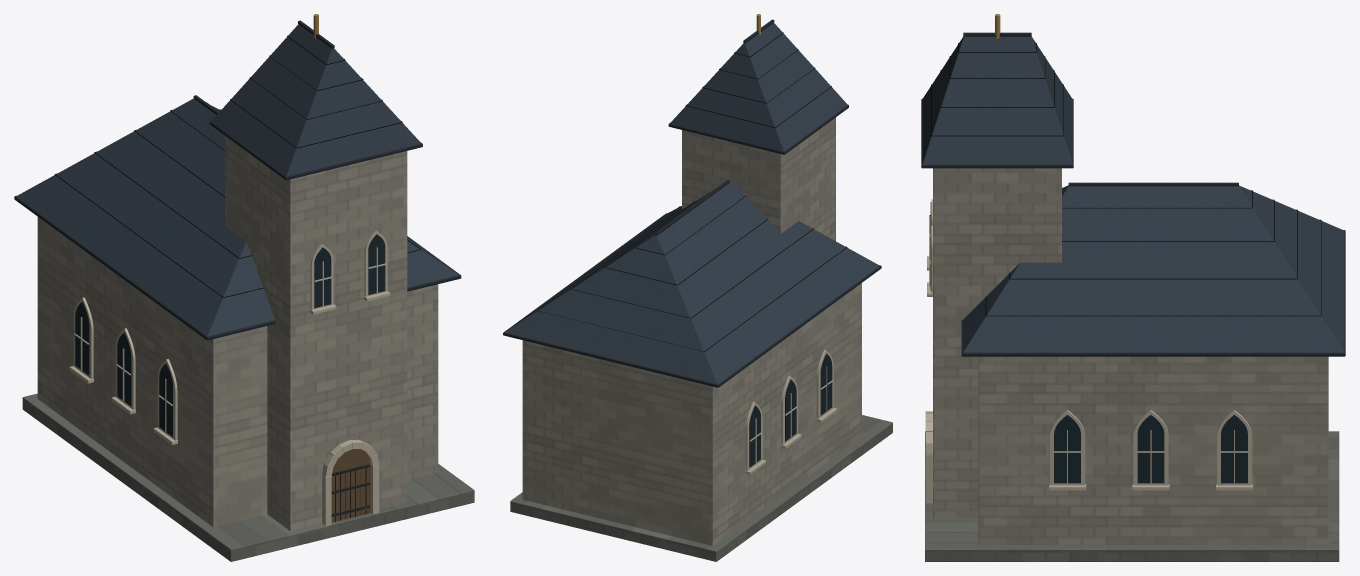
Rendered from Chapel.fbx.
3 renders of one model, left to right at view 1: azimuth 30°, elevation 25°; view 2: azimuth 150°, elevation 25°; view 3: azimuth 270°, elevation 25°, orthographic. The views are drawn at different scales.
Parts seen in each view (by area): view 1: Chapel.001; view 2: Chapel.001; view 3: Chapel.001.
Boxes of the visible parts, left/top/right/bottom form: Chapel.001: left=14, top=14, right=474, bottom=561; Chapel.001: left=503, top=14, right=892, bottom=561; Chapel.001: left=921, top=14, right=1345, bottom=561.
Size of the model in its own units: 10.86 by 20 by 15.76.
